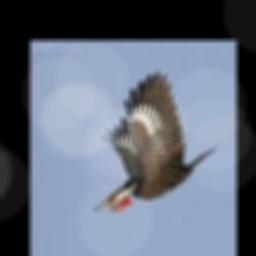Woodpecker: (95, 72, 217, 213)
